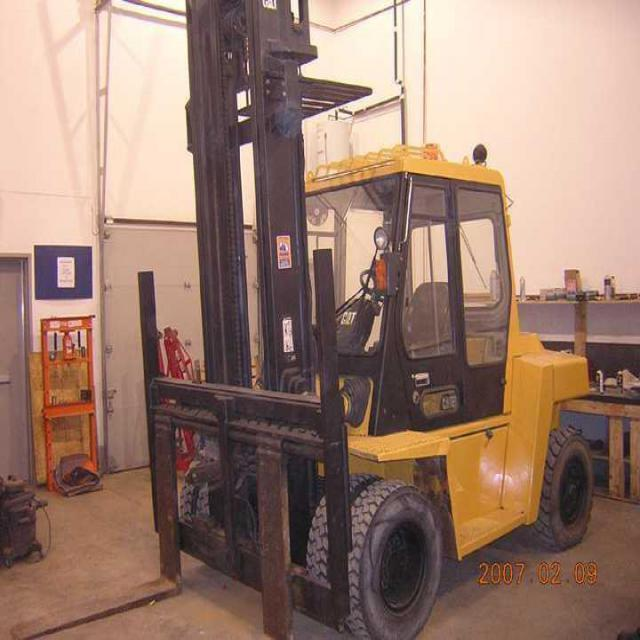forklift: (12, 0, 594, 639)
